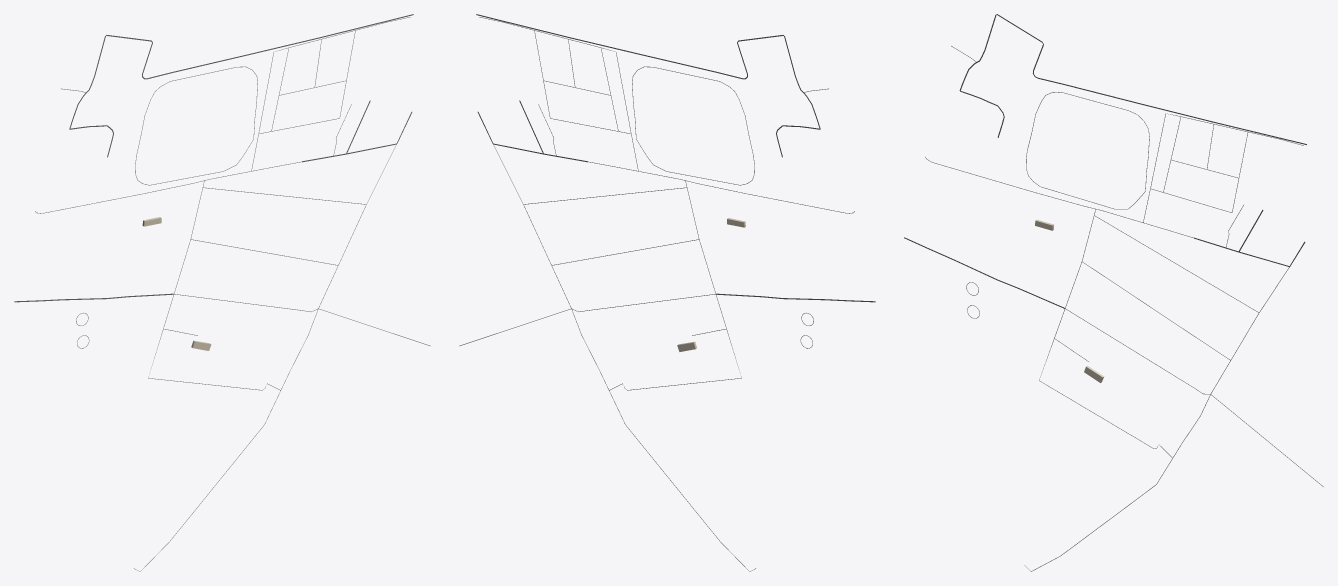
File: historic-palestine-13_24_3549_3183.glb
The picture shows the model from 3 angles, left to right: view 1: azimuth 30°, elevation 25°; view 2: azimuth 150°, elevation 25°; view 3: azimuth 330°, elevation 25°; orthographic projection.
Visible parts, largest first — view 1: Road .015; view 2: Road .015; view 3: Road .015.
Boxes of the visible parts, x1,y1,x2,y2 form: Road .015: (83, 14, 413, 96); Road .015: (476, 14, 806, 96); Road .015: (973, 14, 1306, 144).
Size of the model in its own units: 1289 by 1613 by 8.7.
